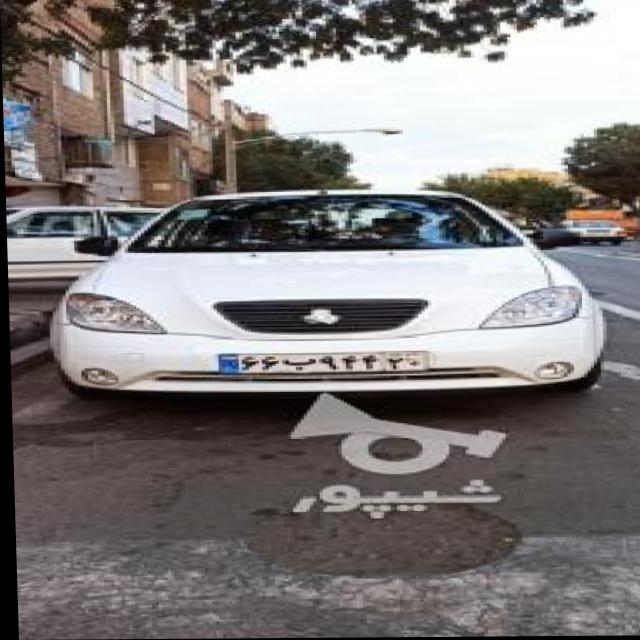licence: (203, 349, 431, 373)
